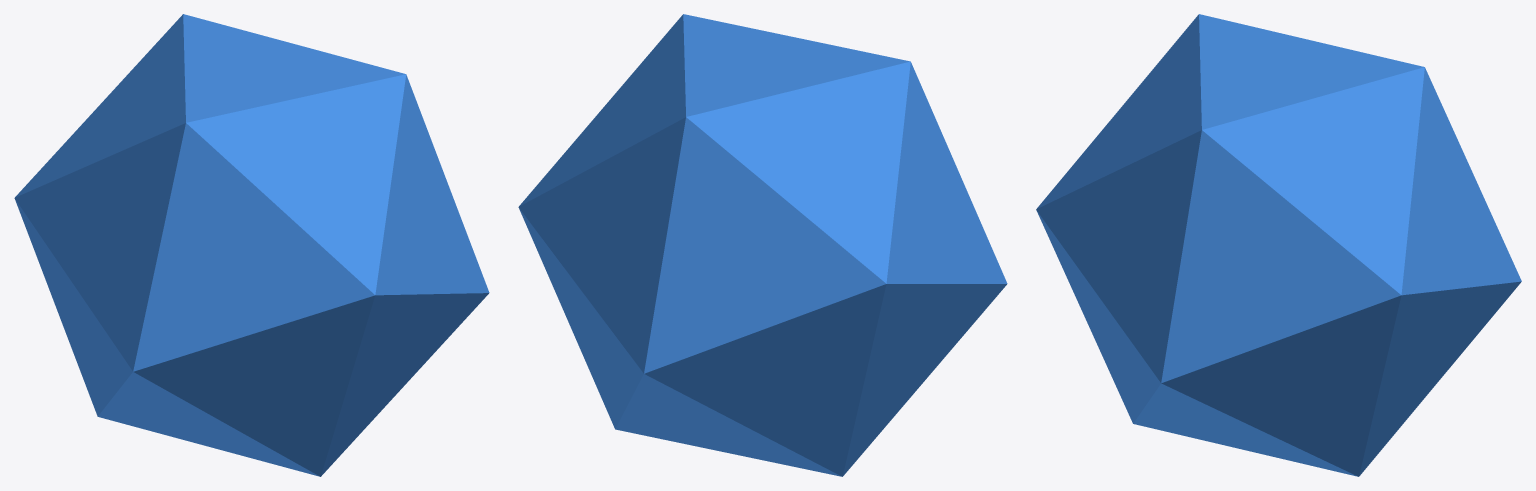
3 renders of one model, left to right at view 1: azimuth 30°, elevation 25°; view 2: azimuth 150°, elevation 25°; view 3: azimuth 270°, elevation 25°, orthographic.
Visible parts, largest first — view 1: Icosphere; view 2: Icosphere; view 3: Icosphere.
Boxes of the visible parts, box(x1,y1,x2,y2) form: Icosphere: box(14, 14, 489, 476); Icosphere: box(518, 14, 1007, 476); Icosphere: box(1036, 14, 1521, 476).
Size of the model in its own units: 1.7 by 1.97 by 1.61.
